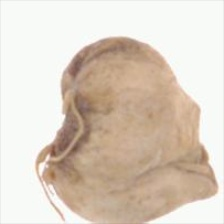L3: (182, 105, 220, 198)
L4: (39, 35, 219, 223)
